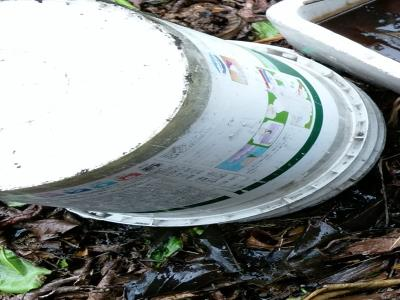bottle: (1, 1, 388, 231)
